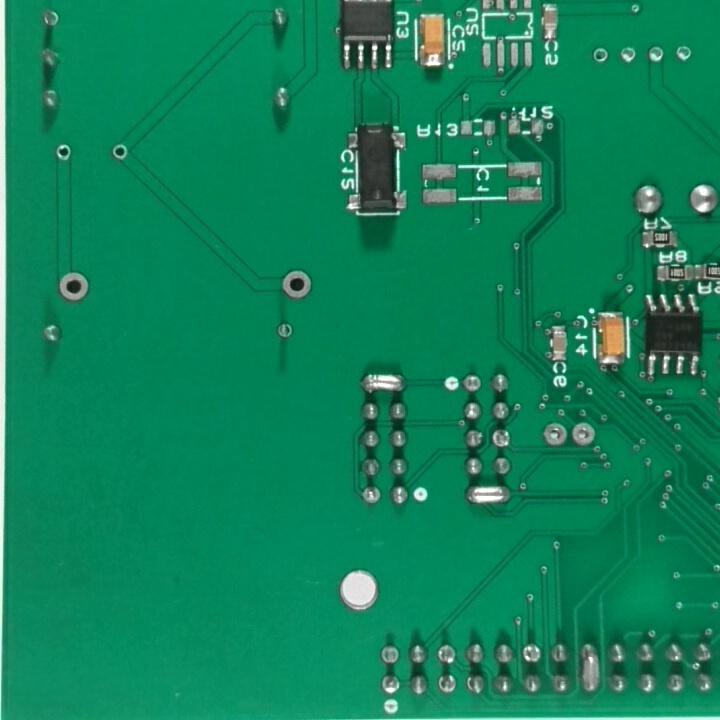F: (279, 266, 315, 303), (54, 268, 92, 303), (541, 418, 571, 450), (570, 420, 597, 449), (358, 484, 384, 509), (377, 672, 402, 697), (462, 370, 483, 398), (273, 319, 296, 343), (520, 642, 543, 666), (435, 672, 458, 695), (38, 9, 63, 30), (492, 427, 512, 453), (618, 44, 641, 66), (108, 142, 131, 163), (674, 41, 695, 64), (53, 143, 75, 163), (590, 45, 610, 67), (647, 43, 667, 65)
P: (357, 366, 408, 397), (577, 638, 602, 696), (462, 481, 513, 509)
